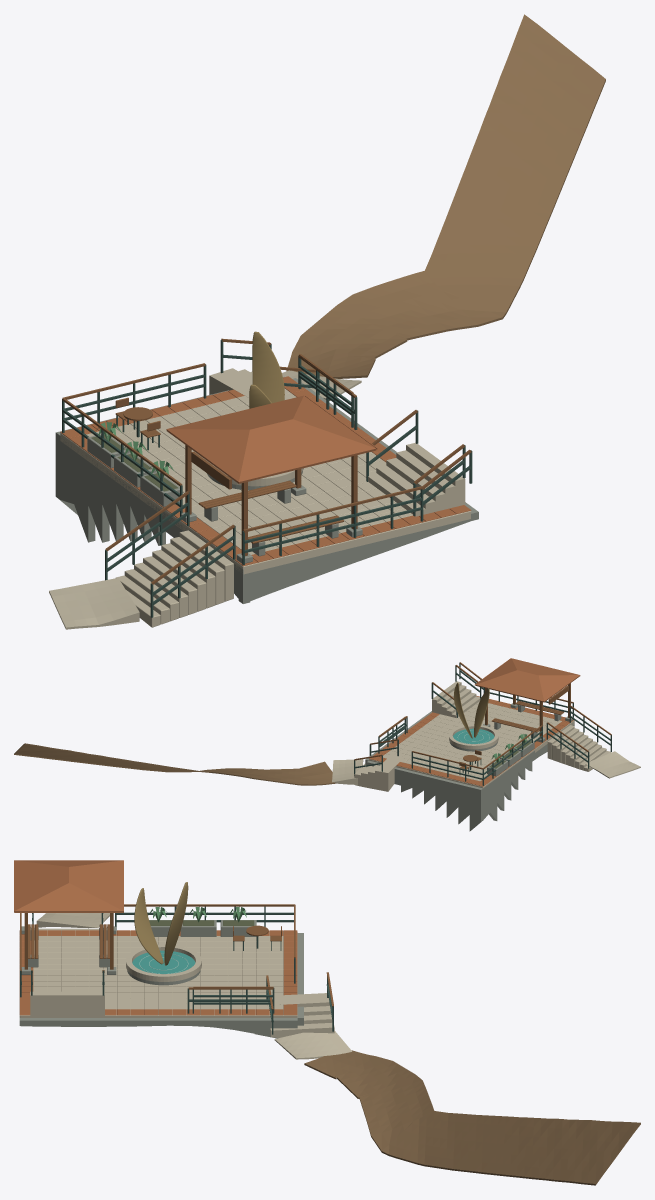
Rendered from circulation-square.glb.
3 renders of one model, top to bottom at view 1: azimuth 30°, elevation 25°; view 2: azimuth 150°, elevation 25°; view 3: azimuth 270°, elevation 25°, orthographic. The views are drawn at different scales.
Visible parts, largest first — view 1: C1 / compacted highland earth / walking surface.001, C1 / warm limestone / walking surface.002, C1 / warm volcanic stone / static.001, C1 / terracotta / static.001, C1 / deep green metal / static.002, C1 / oiled timber / static.002, C1 / terracotta / walking surface.001, C1 / weathered bronze / static.001; view 2: C1 / warm limestone / walking surface.002, C1 / warm volcanic stone / static.001, C1 / compacted highland earth / walking surface.001, C1 / terracotta / static.001, C1 / deep green metal / static.002, C1 / oiled timber / static.002, C1 / terracotta / walking surface.001, C1 / weathered bronze / static.001, C1 / warm limestone / static.001, C1 / jade water / static.001; view 3: C1 / warm limestone / walking surface.002, C1 / compacted highland earth / walking surface.001, C1 / terracotta / static.001, C1 / warm volcanic stone / static.001, C1 / terracotta / walking surface.001, C1 / oiled timber / static.002, C1 / deep green metal / static.002, C1 / weathered bronze / static.001, C1 / warm limestone / static.001, C1 / jade water / static.001, C1 / planting soil / static.001.
Part boxes in pixels (x1,y1,x2,y2): C1 / compacted highland earth / walking surface.001: (286,14,605,378); C1 / warm limestone / walking surface.002: (49,368,471,629); C1 / warm volcanic stone / static.001: (55,376,478,603); C1 / terracotta / static.001: (166,395,377,483); C1 / deep green metal / static.002: (62,340,472,617); C1 / oiled timber / static.002: (62,338,471,584); C1 / terracotta / walking surface.001: (60,376,471,566); C1 / weathered bronze / static.001: (249,331,284,408); C1 / warm limestone / walking surface.002: (332,681,640,791); C1 / warm volcanic stone / static.001: (365,703,574,831); C1 / compacted highland earth / walking surface.001: (14,743,336,785); C1 / terracotta / static.001: (475,658,580,702); C1 / deep green metal / static.002: (354,662,611,785); C1 / oiled timber / static.002: (354,662,611,769); C1 / terracotta / walking surface.001: (369,695,573,786); C1 / weathered bronze / static.001: (454,682,489,738); C1 / warm limestone / static.001: (449,724,498,749); C1 / jade water / static.001: (453,728,494,743); C1 / warm limestone / walking surface.002: (19,913,352,1059); C1 / compacted highland earth / walking surface.001: (304,1050,640,1185); C1 / terracotta / static.001: (14,860,123,912); C1 / warm volcanic stone / static.001: (19,920,303,1038); C1 / terracotta / walking surface.001: (19,930,297,1015); C1 / oiled timber / static.002: (20,904,333,1009); C1 / deep green metal / static.002: (20,906,333,1034); C1 / weathered bronze / static.001: (134,882,188,965); C1 / warm limestone / static.001: (126,944,201,981); C1 / jade water / static.001: (132,950,195,973); C1 / planting soil / static.001: (149,920,254,925).
Bounding box in the file's own units: 29.43 × 6.78 × 23.46.
